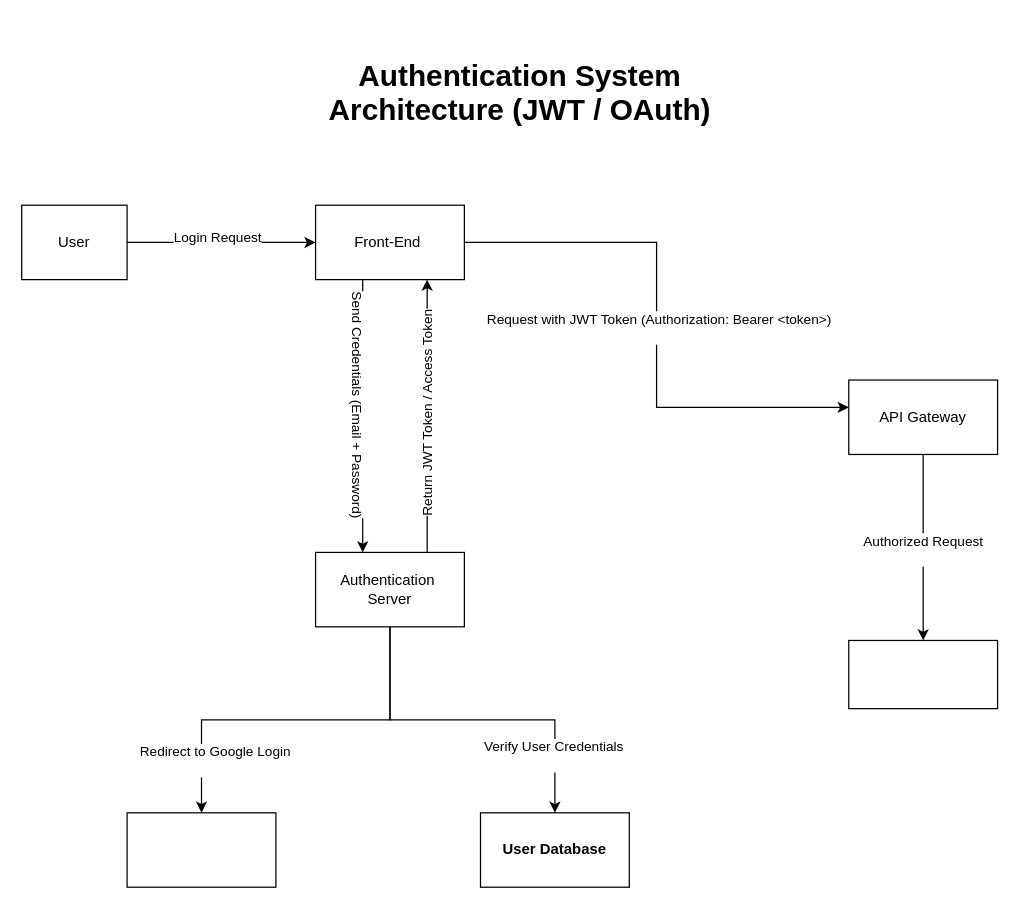
Image size: 1019x909. Some labels were removed from this diagram. Each missing label, with the box of its shape:
OAuth Provider: (126, 812, 276, 887)
Protected Resource: (848, 639, 998, 709)
